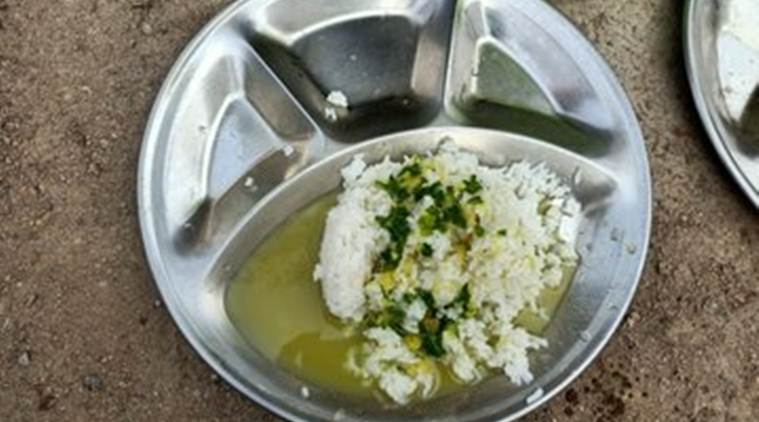curry: (377, 167, 488, 287)
rice: (326, 152, 579, 387)
